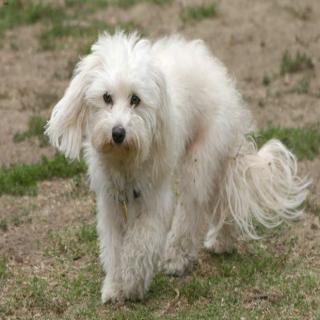dog: (41, 33, 165, 177)
nose: (111, 124, 126, 144)
